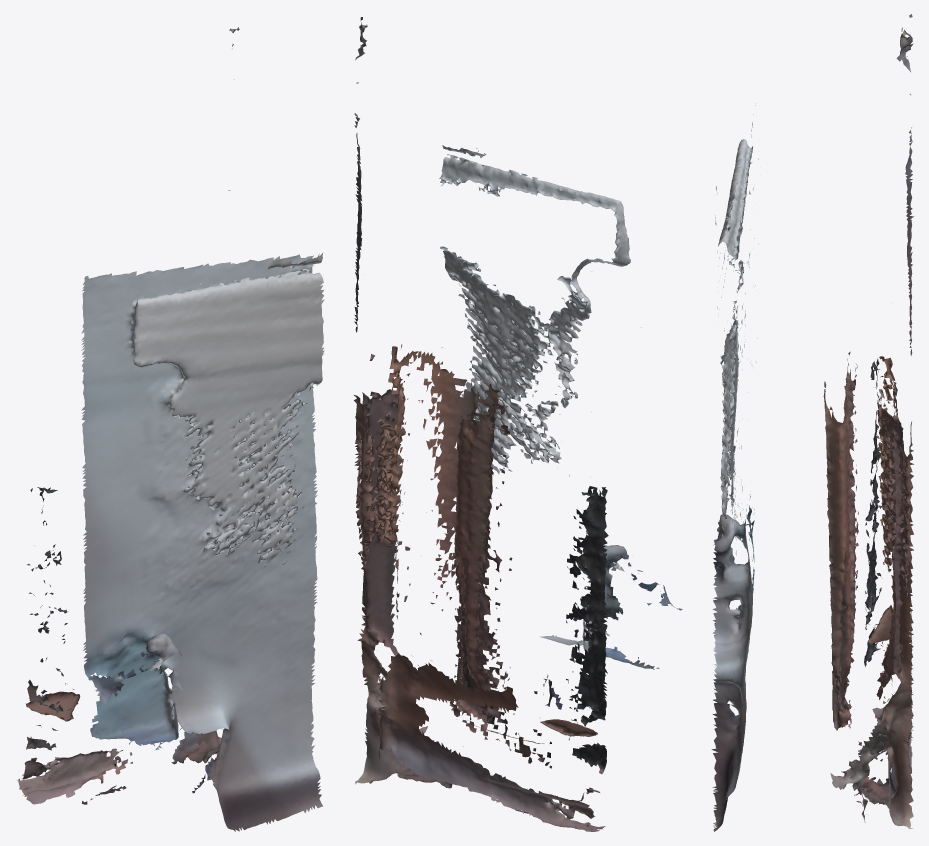
File: apartment-full-48-9eb6167fa85a.glb
3 views of the same model, side by side, from view 1: azimuth 30°, elevation 25°; view 2: azimuth 150°, elevation 25°; view 3: azimuth 270°, elevation 25° (orthographic). The views are drawn at different scales.
Size of the model in its own units: 0.564 by 1.77 by 0.398.
